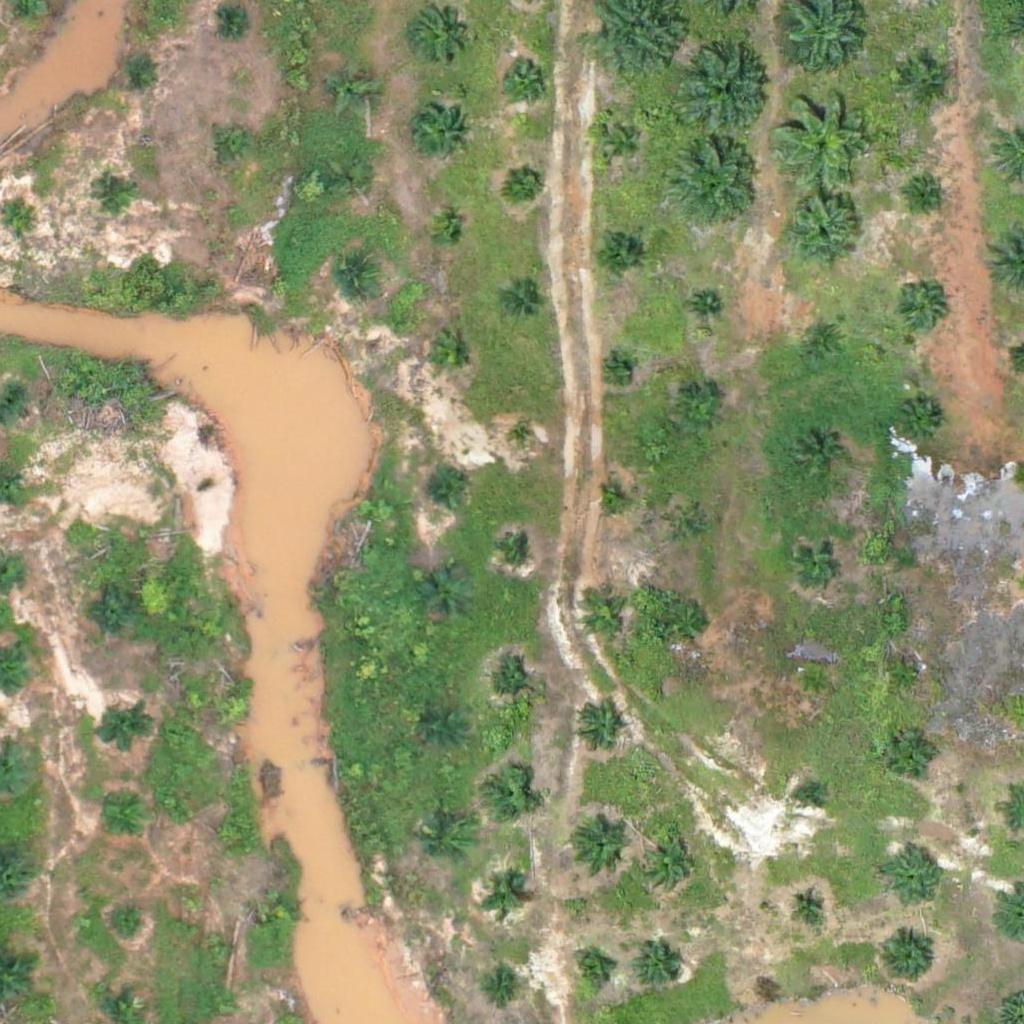Kelapa_Sawit: (772, 87, 872, 188), (779, 188, 867, 276), (670, 137, 758, 225), (682, 45, 770, 133), (636, 832, 699, 895), (876, 928, 938, 991), (880, 846, 942, 909), (409, 103, 471, 166), (570, 814, 632, 877), (666, 597, 716, 648), (886, 727, 936, 778), (412, 6, 462, 57), (579, 591, 629, 642), (425, 330, 475, 381), (328, 63, 378, 114), (900, 55, 950, 105), (487, 662, 537, 712), (485, 771, 535, 821), (574, 704, 624, 754), (634, 940, 684, 990), (99, 705, 149, 755), (97, 795, 147, 845), (894, 284, 944, 334), (897, 398, 947, 448), (794, 537, 844, 587), (794, 430, 844, 480), (801, 316, 851, 366), (674, 386, 724, 436), (593, 226, 643, 276), (421, 570, 471, 620), (90, 590, 140, 640), (596, 117, 646, 167), (501, 53, 551, 103), (423, 821, 473, 871), (484, 876, 522, 914), (485, 967, 523, 1005), (572, 950, 610, 988), (198, 927, 236, 965), (208, 814, 246, 852), (214, 689, 252, 727), (425, 471, 463, 509), (791, 887, 828, 925), (262, 889, 299, 927), (795, 663, 833, 700), (669, 508, 707, 545), (428, 215, 466, 252), (425, 709, 462, 747), (218, 3, 256, 40), (94, 178, 131, 216), (335, 161, 373, 198), (508, 163, 545, 201), (888, 657, 925, 695), (108, 908, 145, 945), (504, 287, 541, 324), (336, 259, 373, 296), (116, 51, 153, 88), (213, 129, 250, 166), (797, 784, 822, 809), (605, 357, 630, 382), (598, 487, 623, 512), (510, 426, 535, 451), (504, 538, 529, 563), (915, 183, 940, 208), (693, 293, 717, 318)
